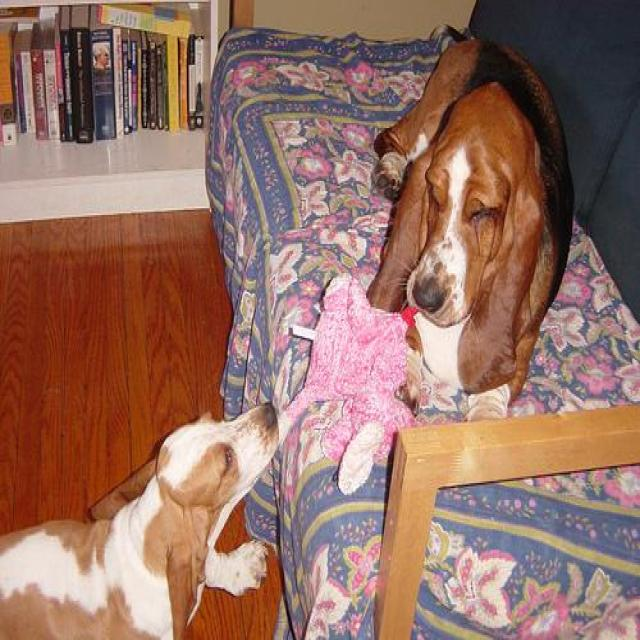basset: (367, 36, 575, 423), (0, 386, 284, 638)
